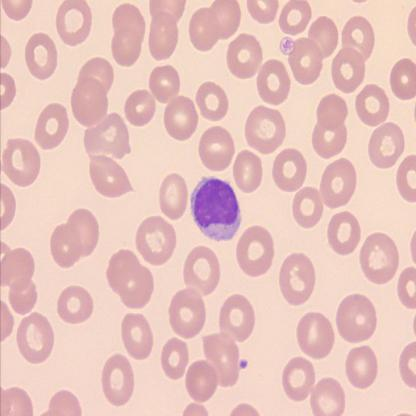Lymphocyte: (189, 175, 242, 242)
